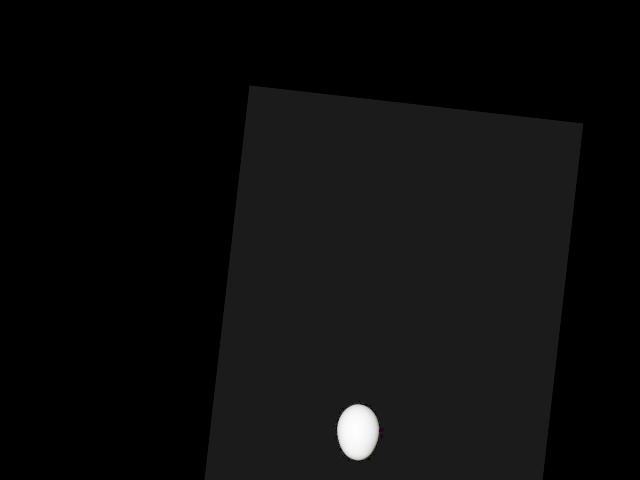egg: (334, 401, 381, 461)
